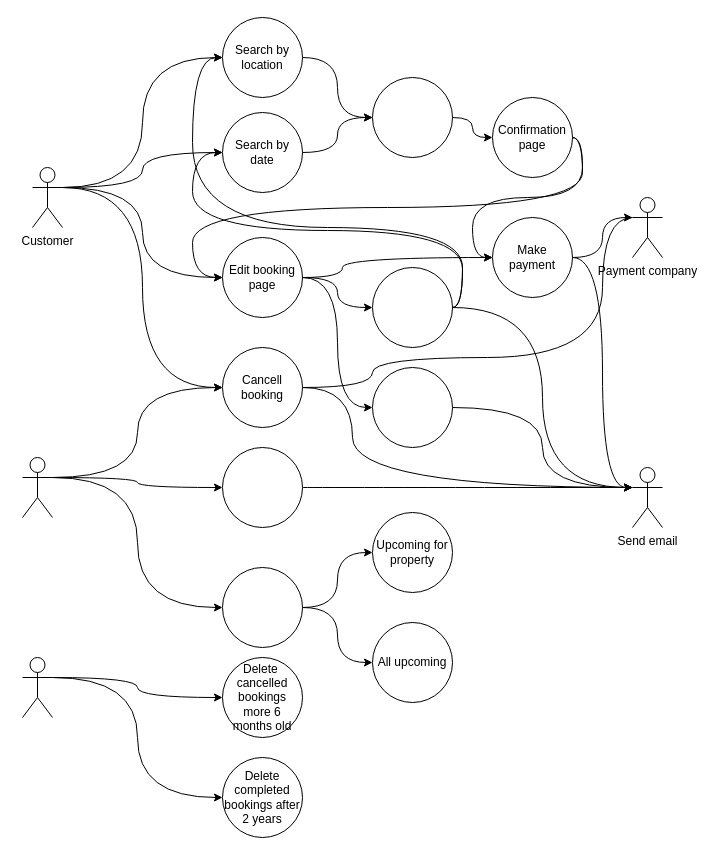
Image size: 714x855. Some labels were removed from this diagram. The centre of each missing label's shape, as x and y in pixels:
"Create booking" belongs at (412,117).
"Edit booking information" belongs at (412,407).
"Edit checkout date of booking" belongs at (262,487).
"Restart" belongs at (412,307).
"Staff" belongs at (37,487).
"System" belongs at (37,687).
"Veiw booking" belongs at (262,607).
